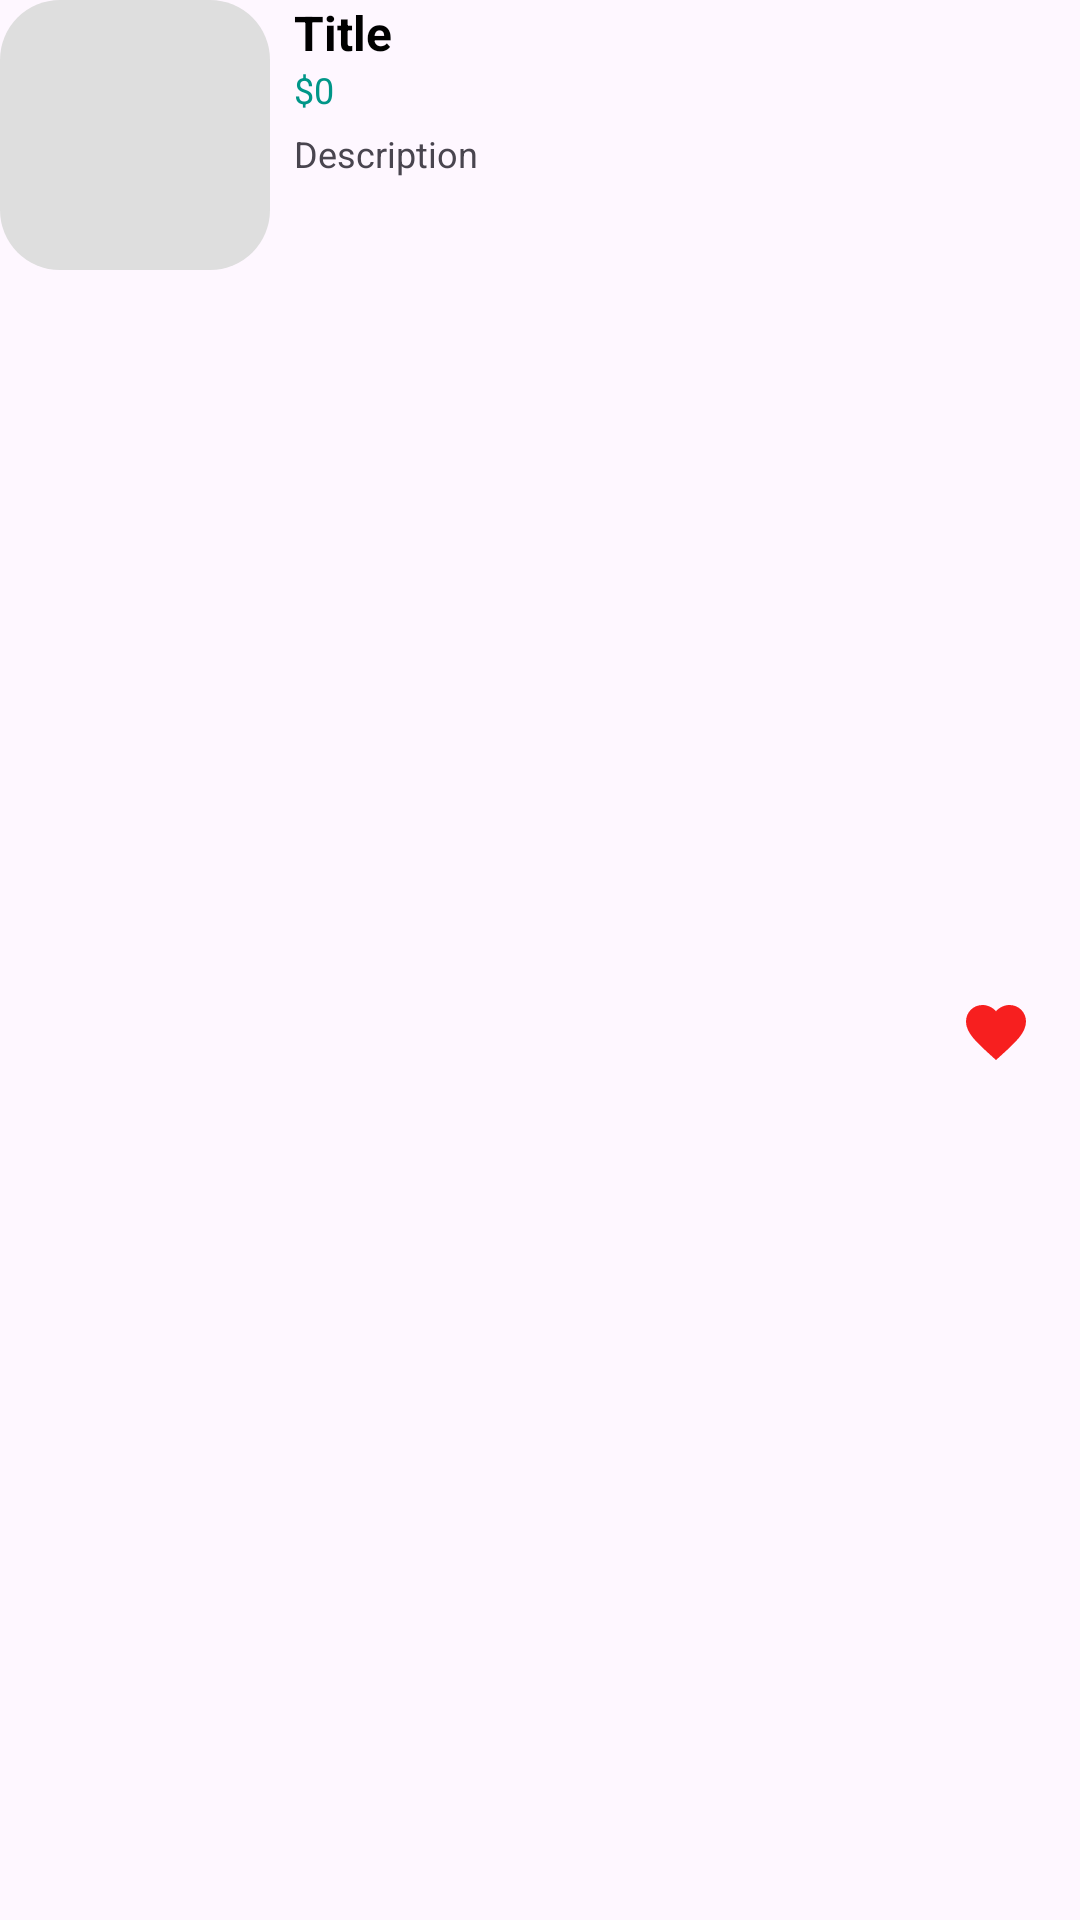

Named icons in this screenshot (1080 × 1920) and their bounding boxes, bbox=(x1, y1, x2, y2):
favorite full: bbox=(966, 1005, 1026, 1060)
